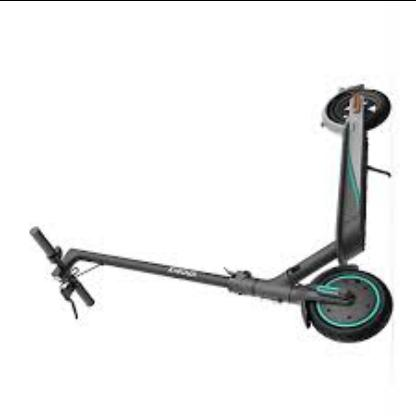bike: (37, 83, 395, 345)
